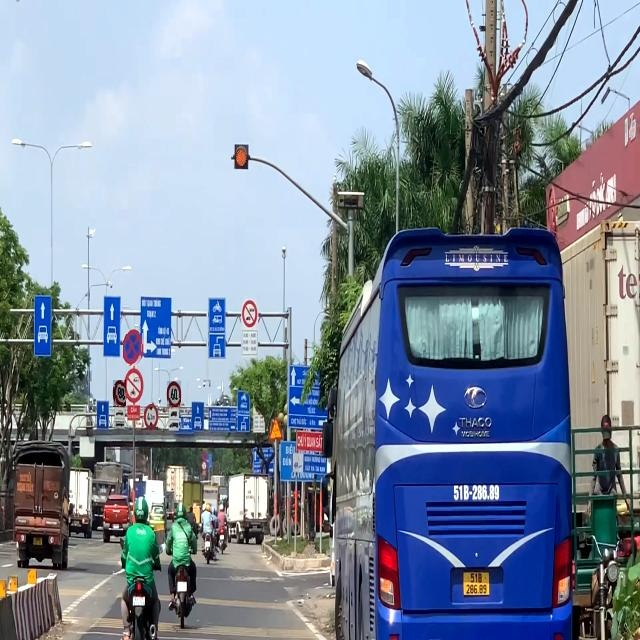bien_cam: (123, 330, 144, 368), (268, 417, 283, 442), (167, 381, 181, 407), (144, 404, 158, 430), (113, 380, 126, 407)
